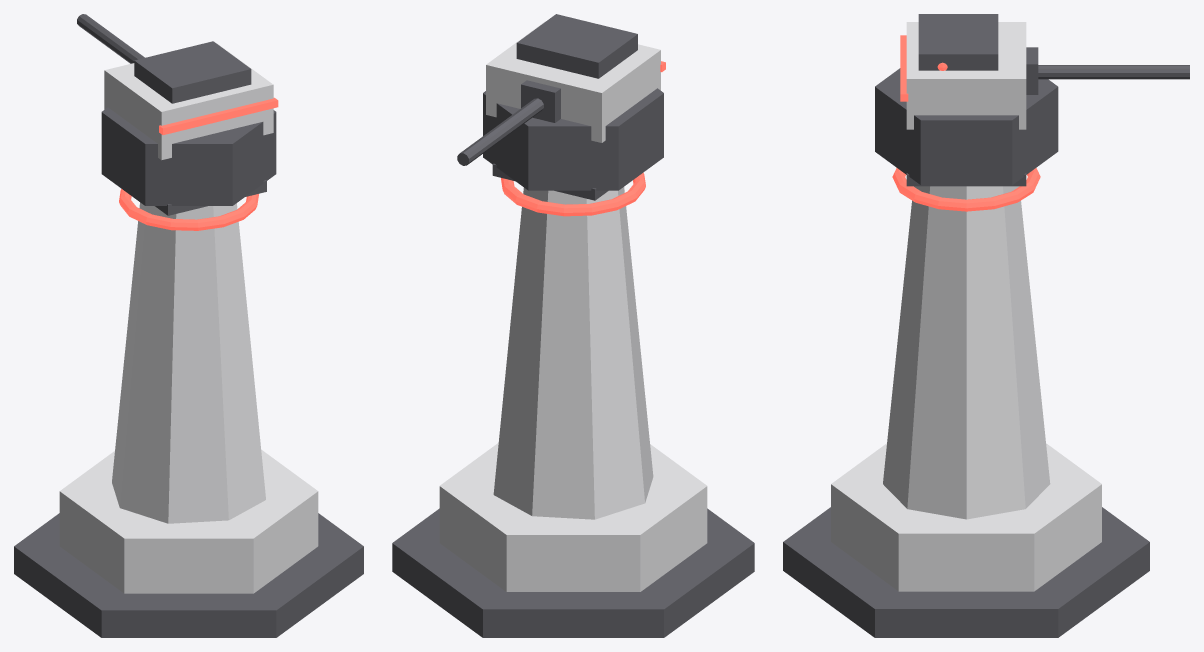
File: jp_defense_tower.glb
3 views of the same model, side by side, from view 1: azimuth 30°, elevation 25°; view 2: azimuth 150°, elevation 25°; view 3: azimuth 270°, elevation 25° (orthographic). The views are drawn at different scales.
Parts seen in each view (by area): view 1: Column, Base, Pad, Turret, HeadBase, GlowRing; view 2: Column, Base, Pad, Turret, HeadBase, GlowRing; view 3: Column, Base, Pad, Turret, HeadBase, GlowRing.
Part boxes in pixels (x1,y1,x2,y2): Column: [112, 202, 265, 523]; Base: [59, 450, 318, 593]; Pad: [14, 513, 363, 637]; Turret: [77, 14, 278, 160]; HeadBase: [101, 107, 276, 205]; GlowRing: [119, 189, 258, 230]; Column: [493, 187, 653, 519]; Base: [439, 443, 707, 591]; Pad: [392, 508, 754, 637]; Turret: [457, 14, 665, 165]; HeadBase: [483, 88, 663, 190]; GlowRing: [501, 172, 645, 216]; Column: [883, 186, 1050, 519]; Base: [831, 443, 1101, 591]; Pad: [783, 507, 1149, 637]; Turret: [900, 14, 1189, 129]; HeadBase: [875, 68, 1058, 185]; GlowRing: [892, 168, 1040, 211].
Bounding box in the file's own units: 3.98 × 7.42 × 5.1.
